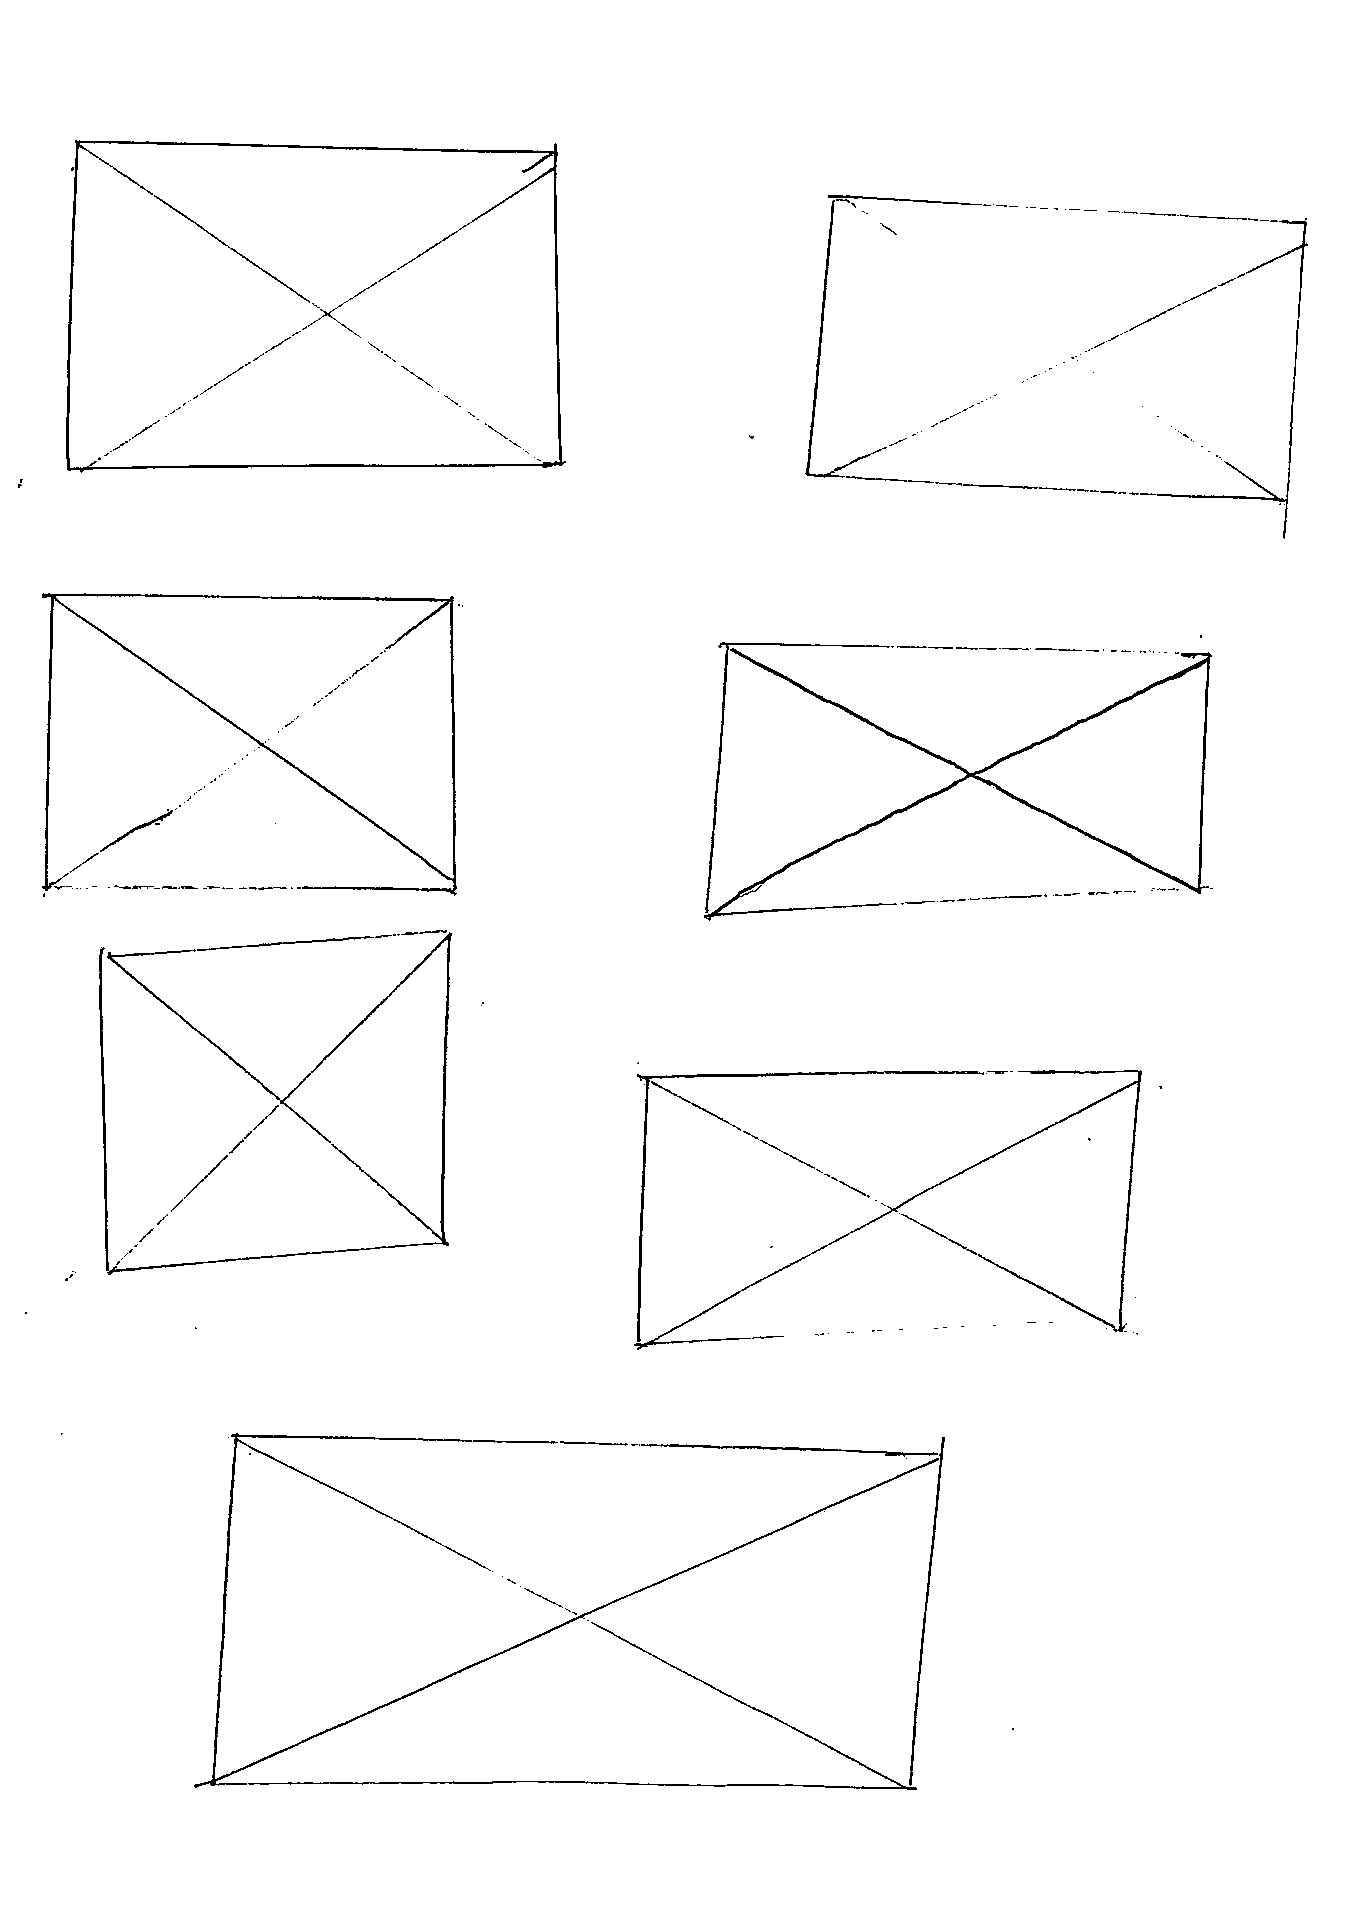Image: (207, 1421, 940, 1796), (61, 138, 571, 473), (798, 182, 1307, 503), (628, 1056, 1143, 1343), (698, 634, 1220, 912), (89, 918, 461, 1279), (37, 591, 455, 900)
